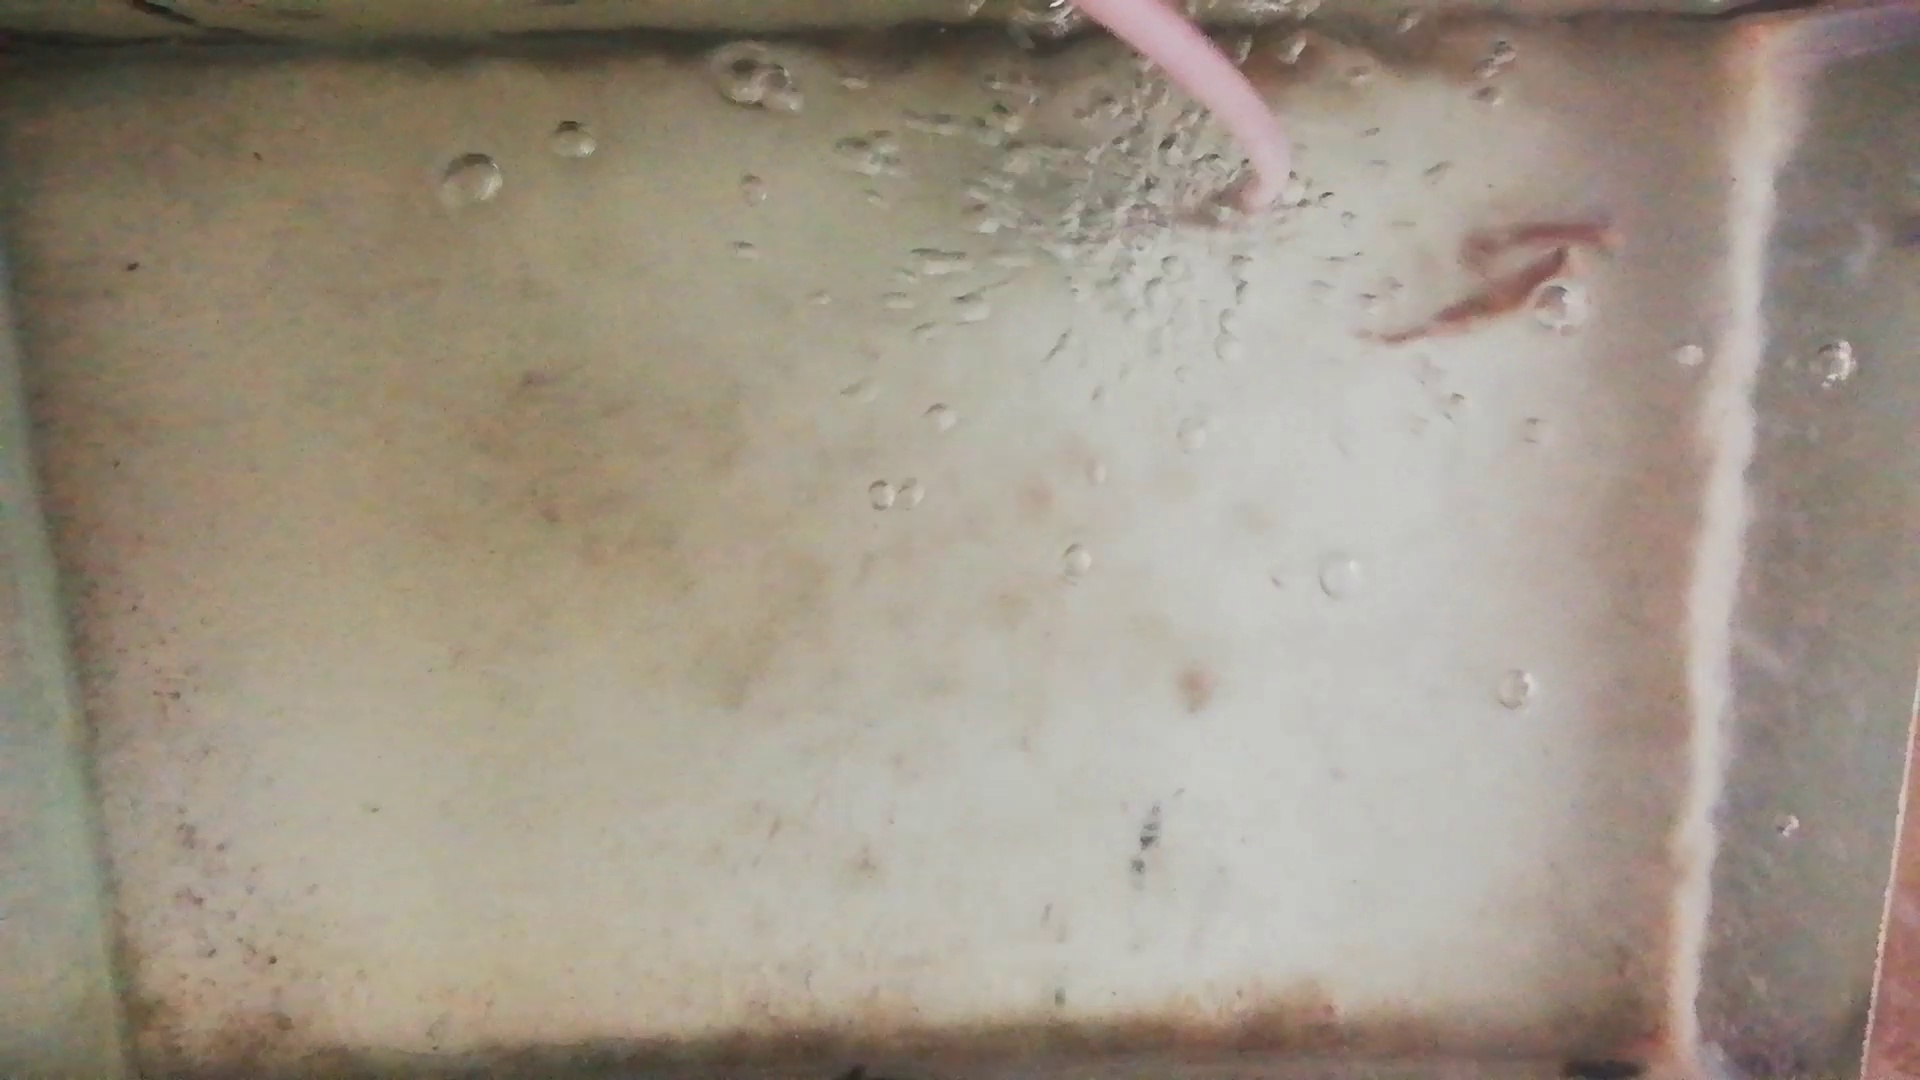fish: (1378, 251, 1578, 342), (1456, 219, 1629, 258)
